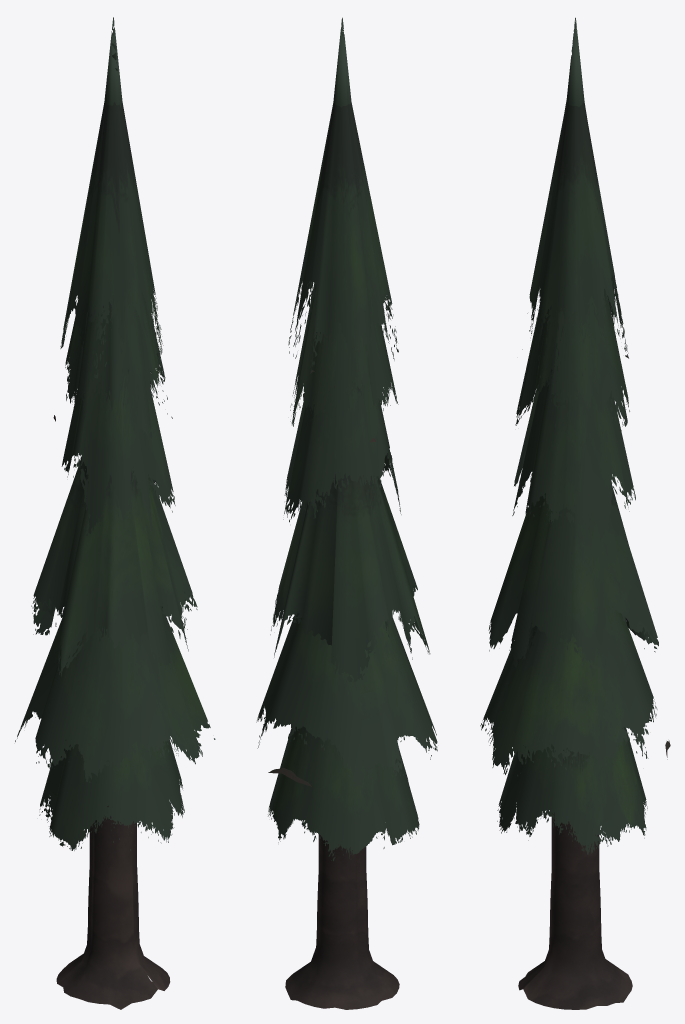
File: PineTree.fbx
The picture shows the model from 3 angles, left to right: view 1: azimuth 30°, elevation 25°; view 2: azimuth 150°, elevation 25°; view 3: azimuth 270°, elevation 25°; orthographic projection.
Visible parts, largest first — view 1: Cylinder; view 2: Cylinder; view 3: Cylinder.
Boxes of the visible parts, bbox=[...] form: Cylinder: bbox=[15, 17, 215, 1009]; Cylinder: bbox=[256, 17, 437, 1009]; Cylinder: bbox=[480, 17, 670, 1009].
Size of the model in its own units: 831 by 4532 by 833.
